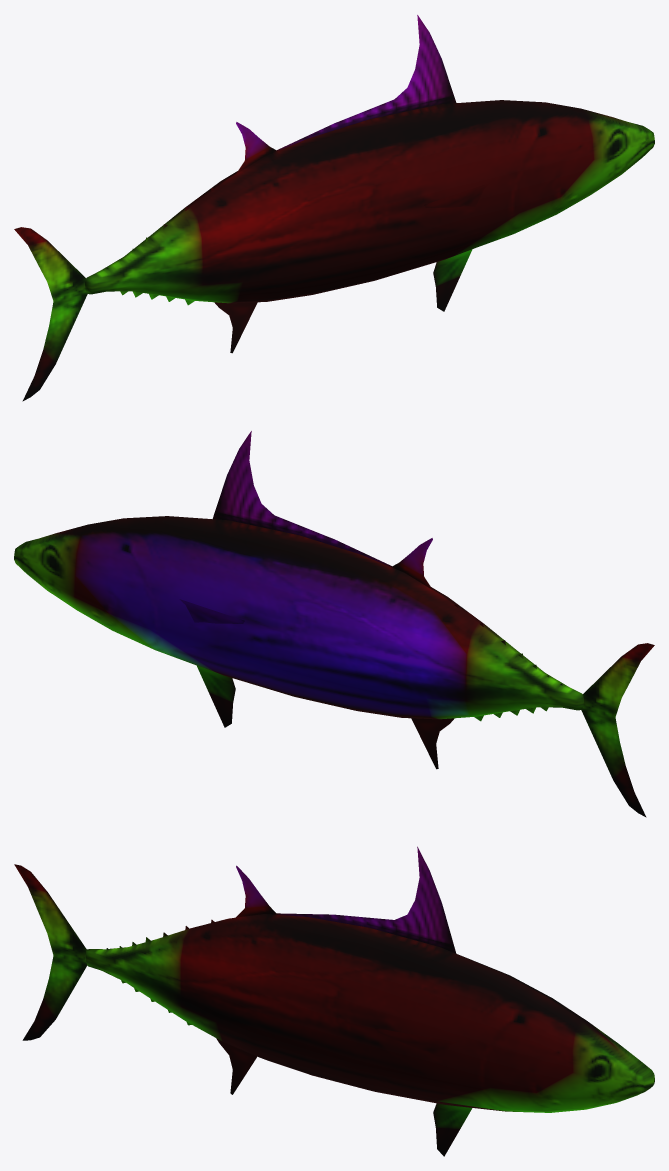
The model's file is skipjack_tuna.glb.
3 renders of one model, top to bottom at view 1: azimuth 30°, elevation 25°; view 2: azimuth 150°, elevation 25°; view 3: azimuth 330°, elevation 25°, orthographic.
Parts seen in each view (by area): view 1: SkipjackTuna; view 2: SkipjackTuna; view 3: SkipjackTuna.
Part boxes in pixels (<box>): SkipjackTuna: <box>14,15,654,401</box>; SkipjackTuna: <box>14,431,654,817</box>; SkipjackTuna: <box>14,846,654,1156</box>.
Size of the model in its own units: 1 by 0.4543 by 0.1326.
1 material, 1 textured.
